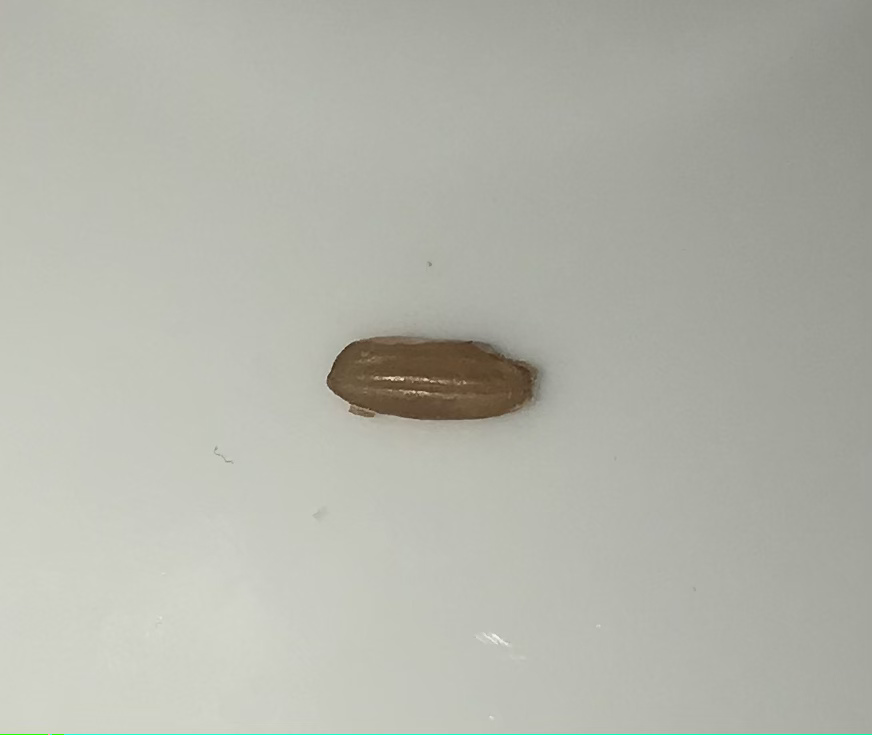Gao Lut Dien Bien: (323, 322, 543, 426)
